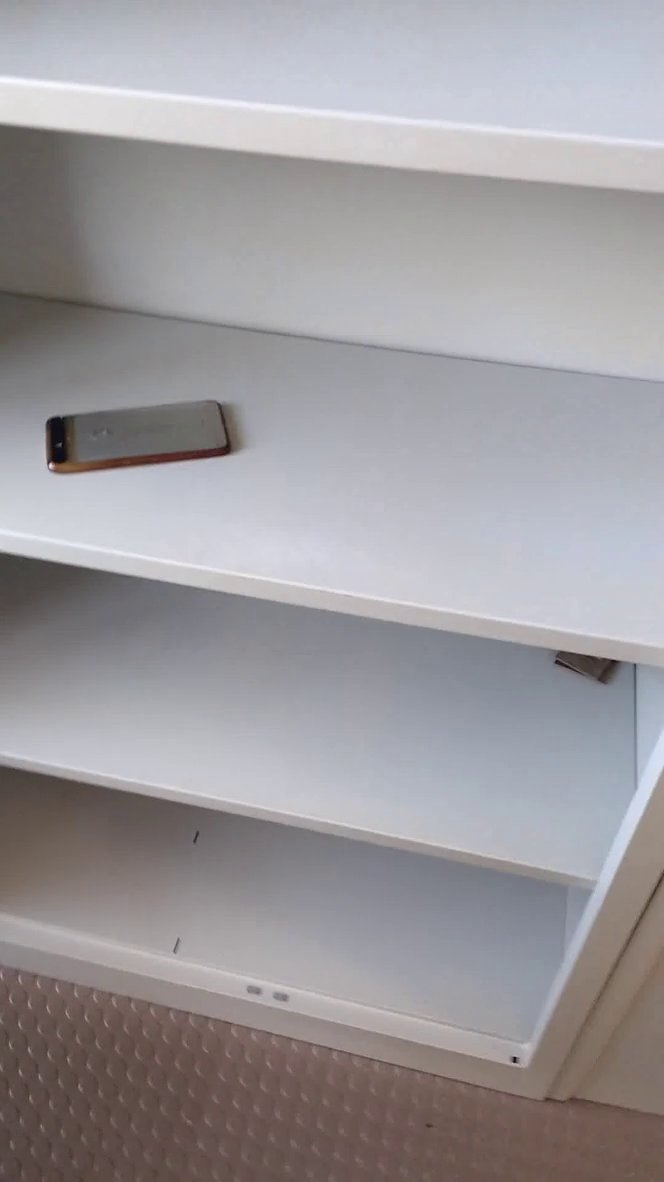phone: (21, 385, 251, 491)
